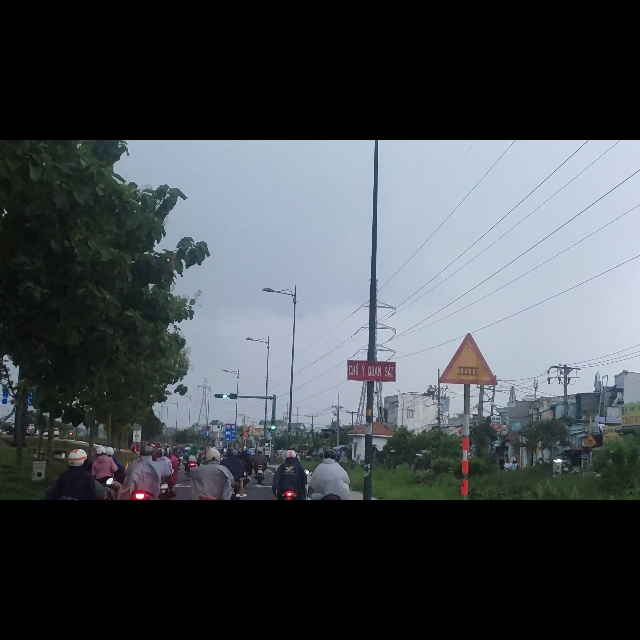bien_chi_dan: (438, 341, 499, 437), (205, 517, 211, 527)
